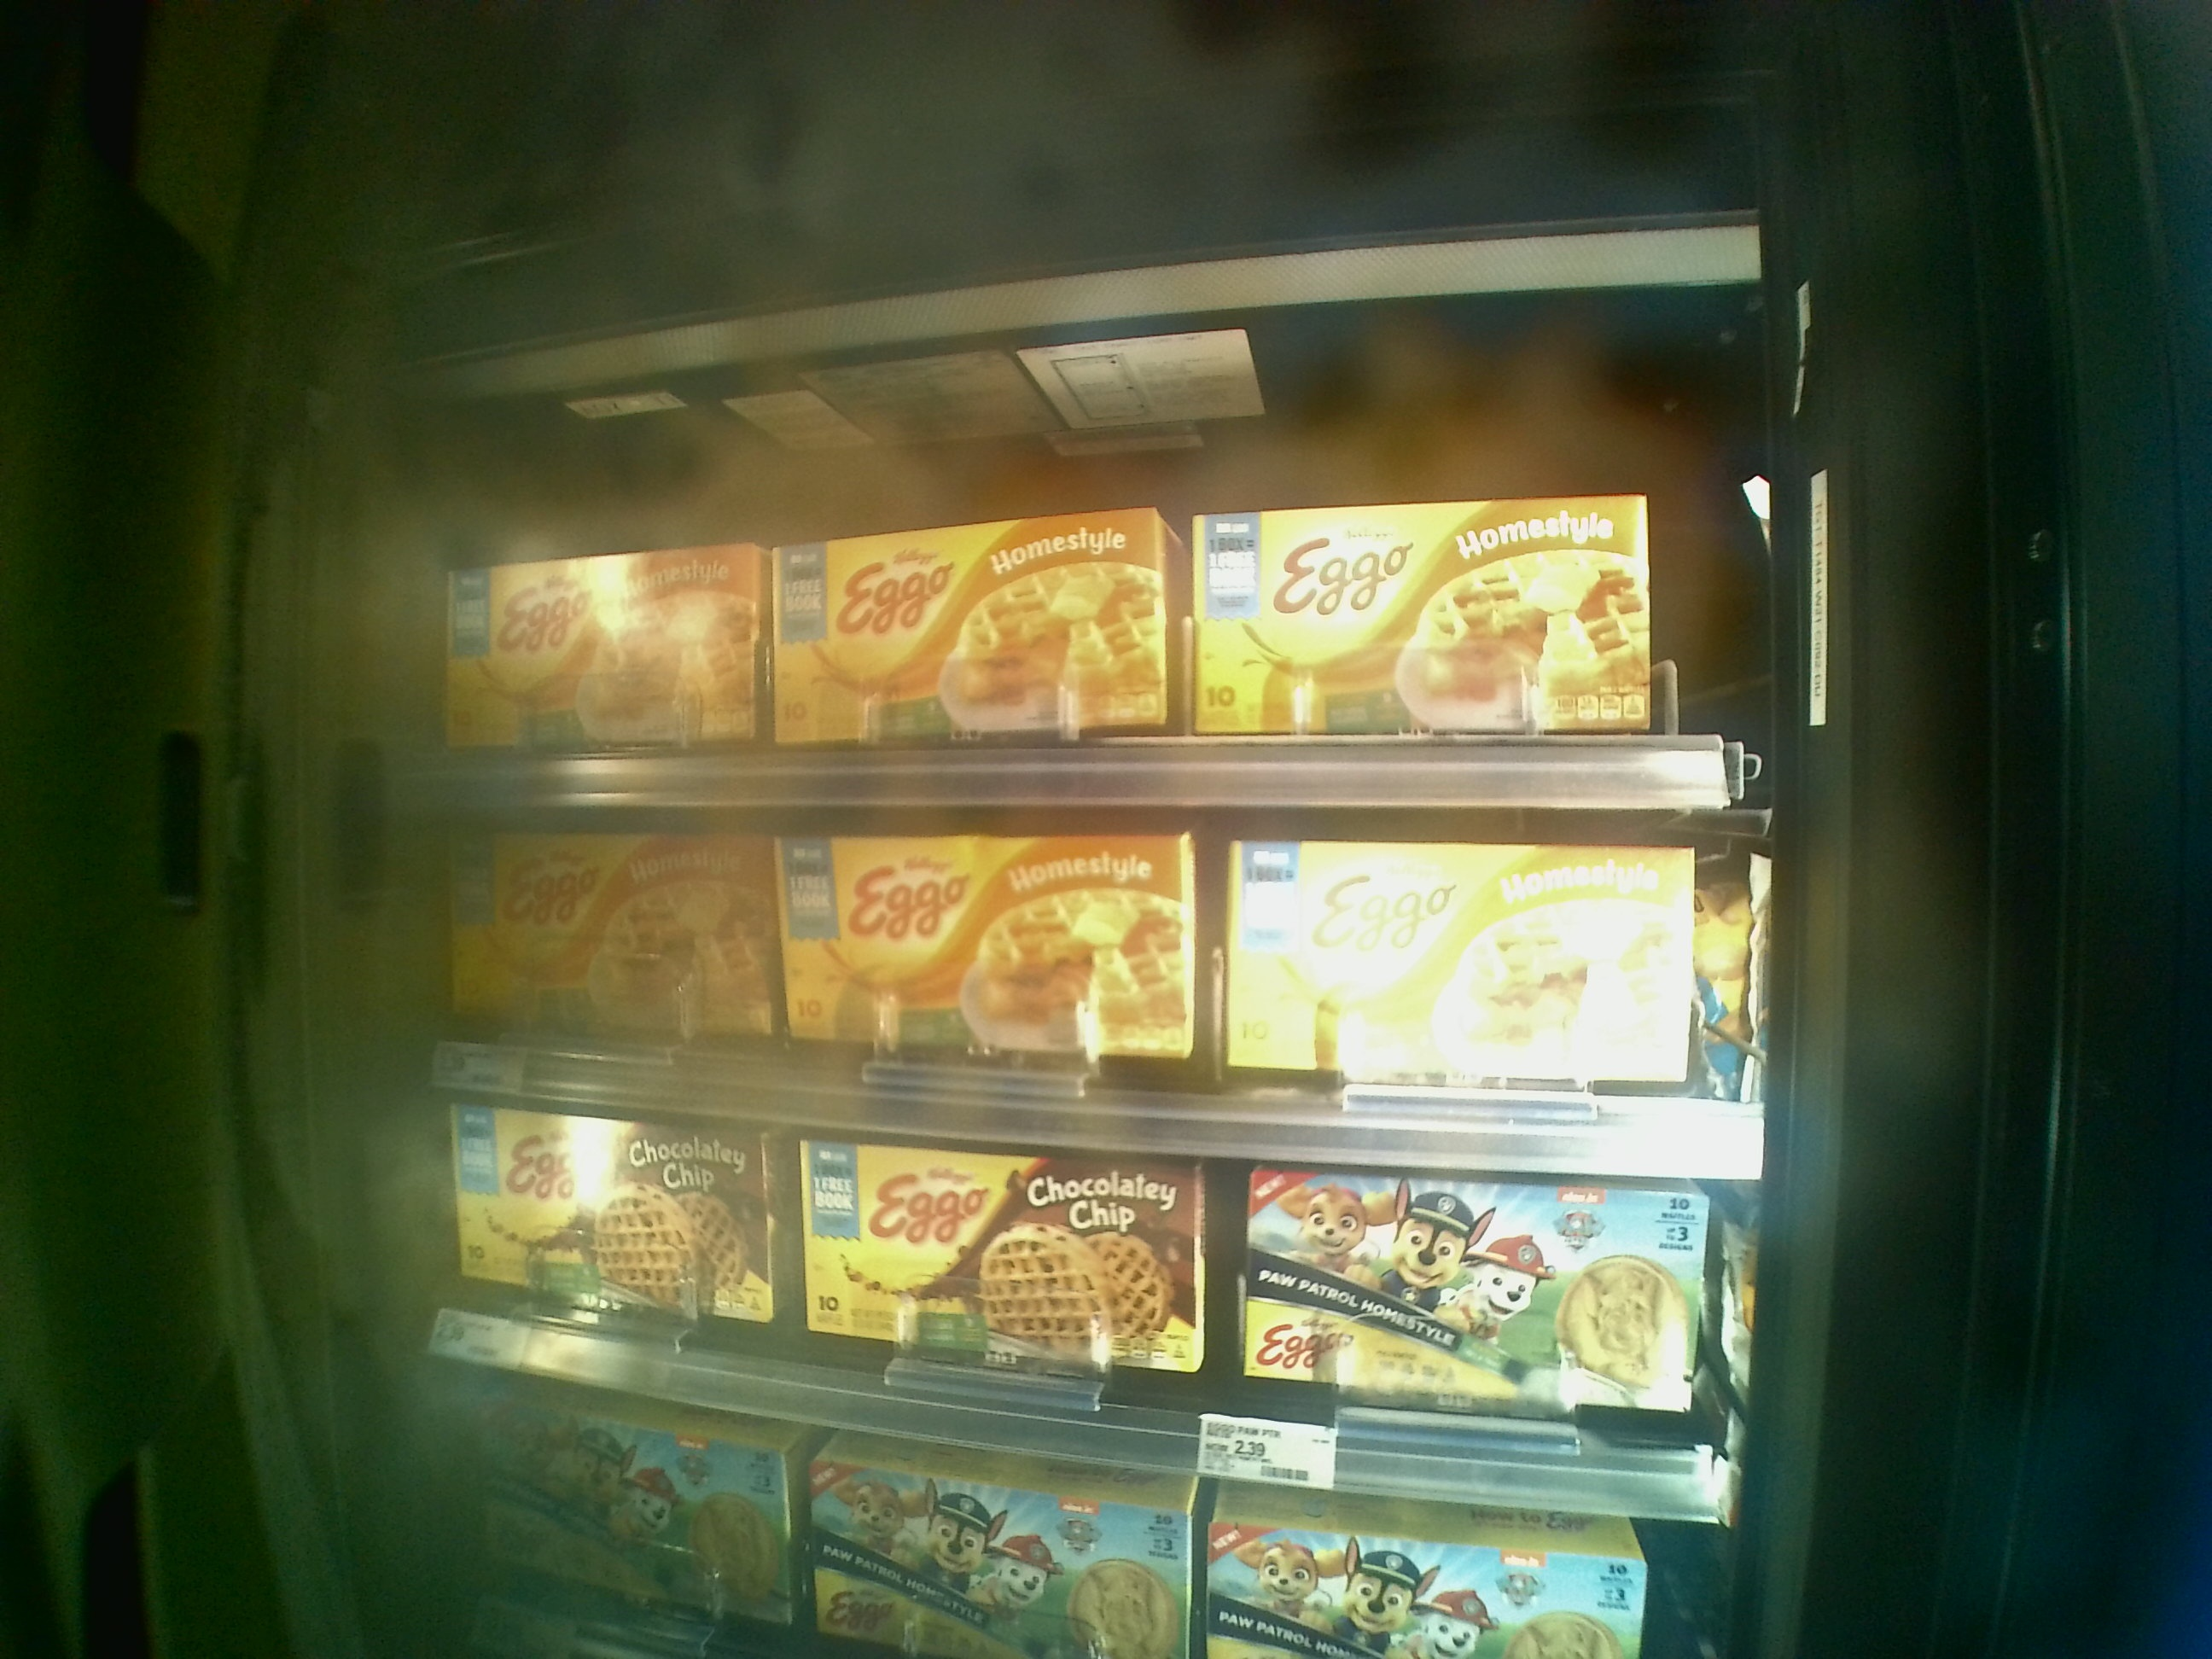shelf: (430, 788, 1759, 1178), (427, 422, 1742, 812)
